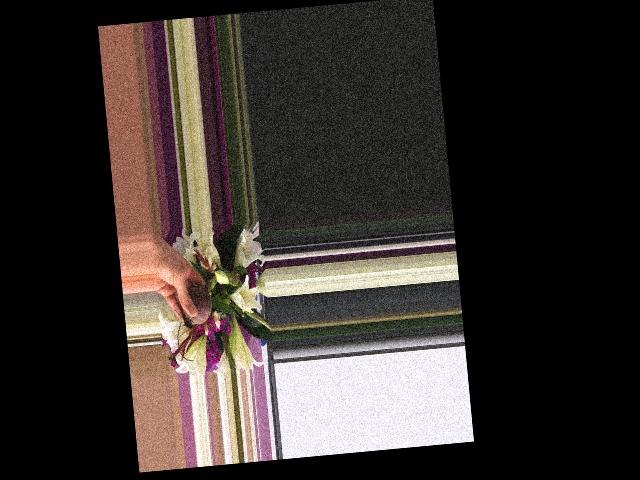beet: (178, 273, 220, 329)
